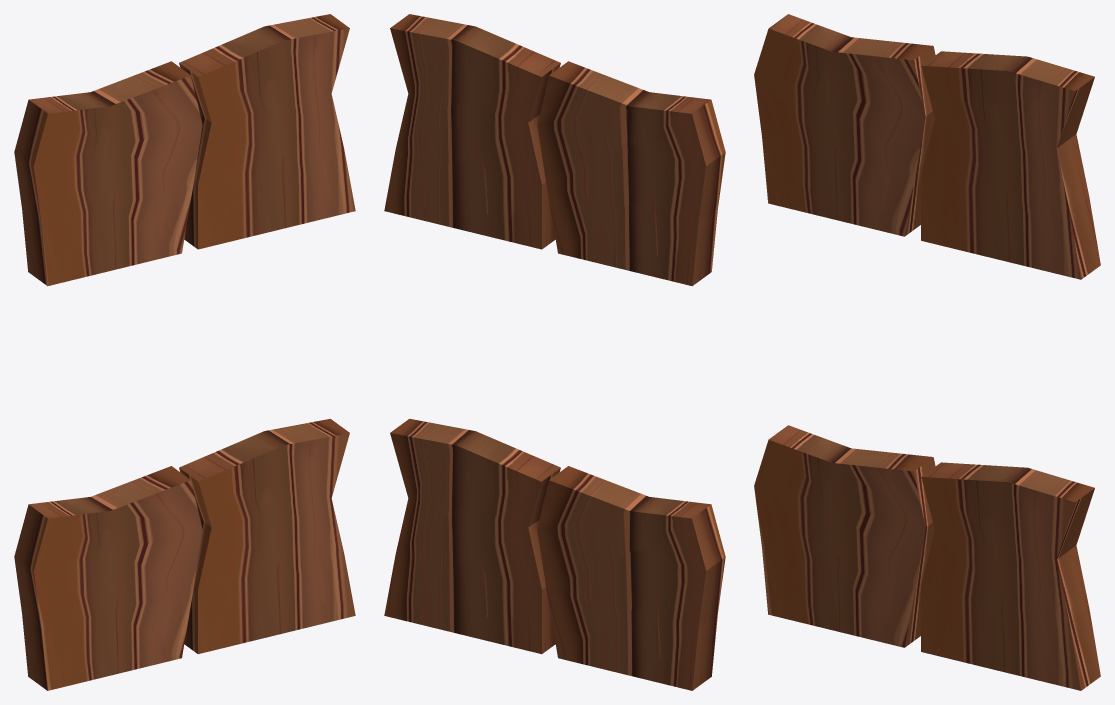
File: MSH_Piso1_Ventana03.FBX
3 views of the same model, side by side, from view 1: azimuth 30°, elevation 25°; view 2: azimuth 150°, elevation 25°; view 3: azimuth 330°, elevation 25° (orthographic).
Visible parts, largest first — view 1: MSH_Piso1_Ventana03; view 2: MSH_Piso1_Ventana03; view 3: MSH_Piso1_Ventana03.
Boxes of the visible parts, <box> form: MSH_Piso1_Ventana03: <box>14,14,355,690</box>; MSH_Piso1_Ventana03: <box>384,14,725,690</box>; MSH_Piso1_Ventana03: <box>754,14,1100,690</box>.
Size of the model in its own units: 62.39 by 110 by 6.54.
Materials: 1 (1 with a texture image).
